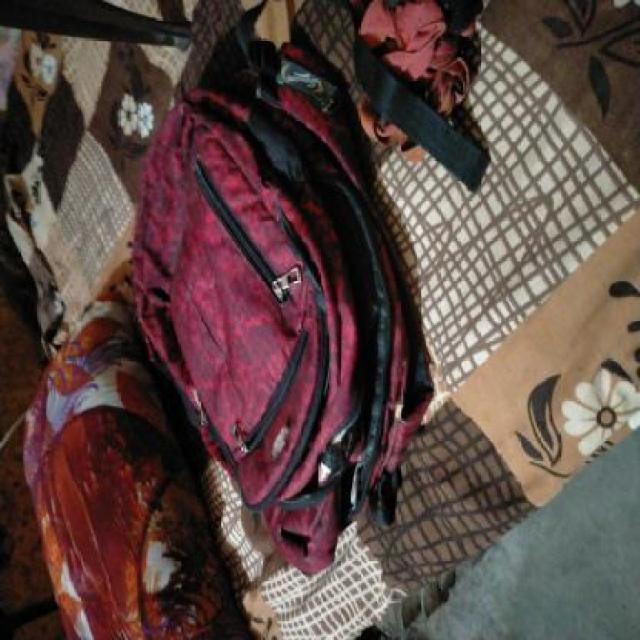backpack: (120, 28, 429, 578)
